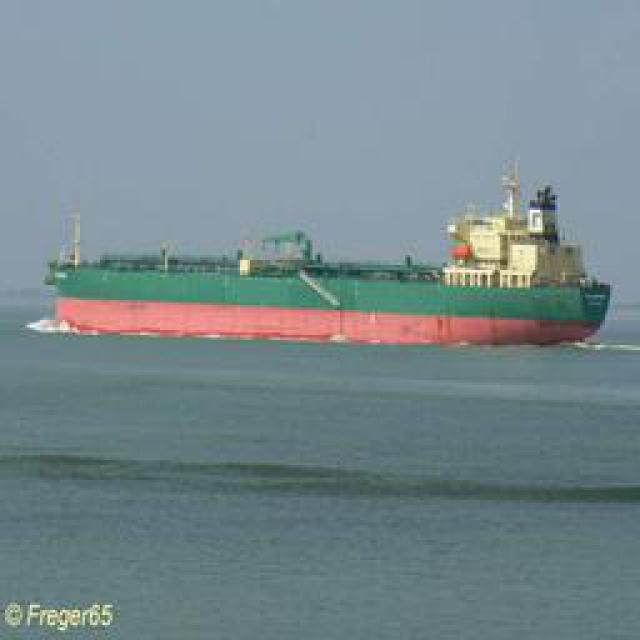Ship: (46, 166, 609, 349)
